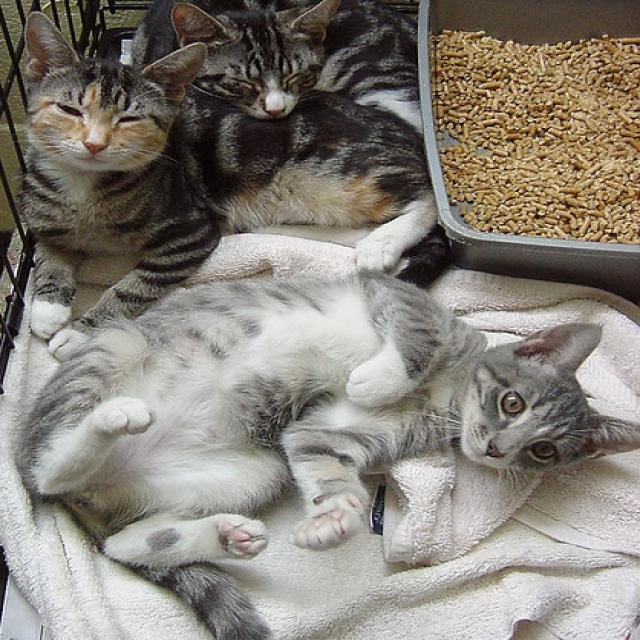cat: (15, 269, 639, 640), (16, 6, 453, 361)
